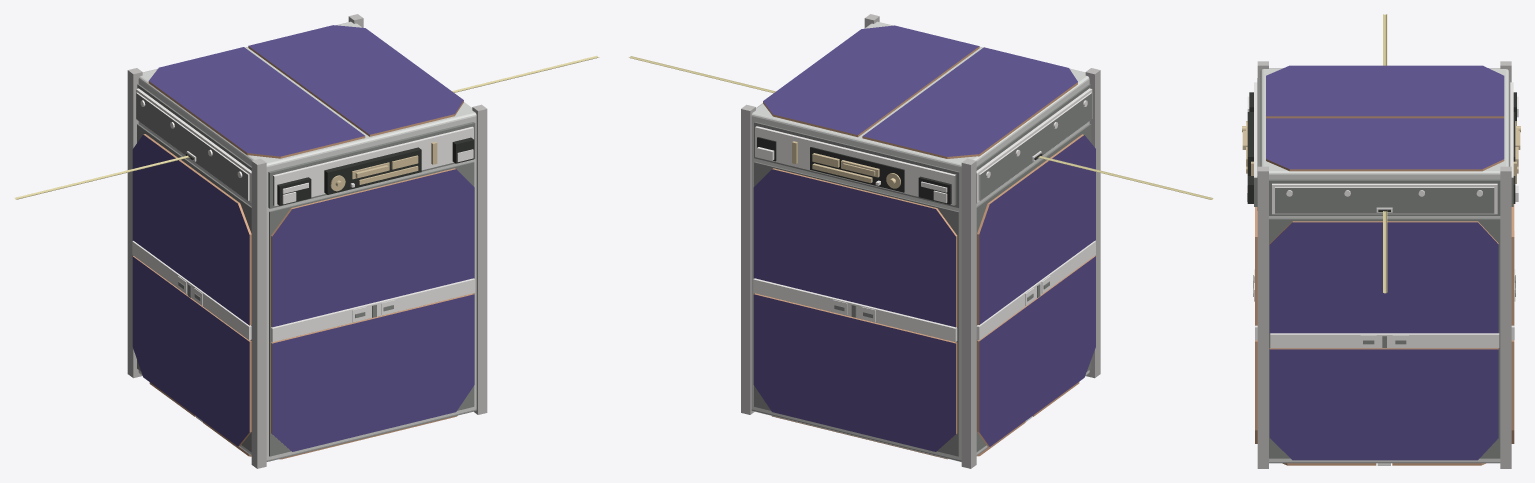
The model's file is cubesat-1-ru-generic.glb.
3 renders of one model, left to right at view 1: azimuth 30°, elevation 25°; view 2: azimuth 150°, elevation 25°; view 3: azimuth 270°, elevation 25°, orthographic. The views are drawn at different scales.
Visible parts, largest first — view 1: Layer_0; view 2: Layer_0; view 3: Layer_0.
Boxes of the visible parts, x1,y1,x2,y2 form: Layer_0: [14, 14, 598, 468]; Layer_0: [629, 14, 1213, 468]; Layer_0: [1242, 14, 1520, 468].
Bounding box in the file's own units: 5.19 × 2.6 × 2.2.
2 materials, 2 textured.
